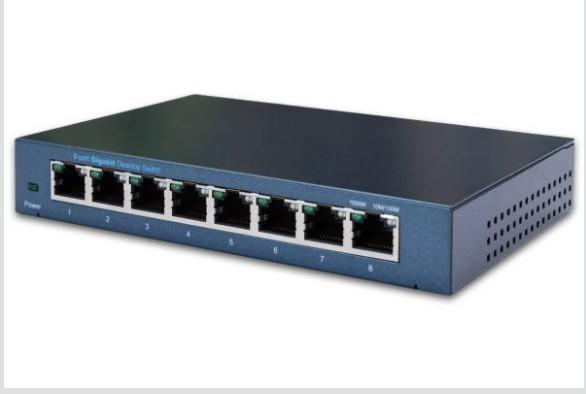NetworkSwitch: (14, 95, 577, 297)
